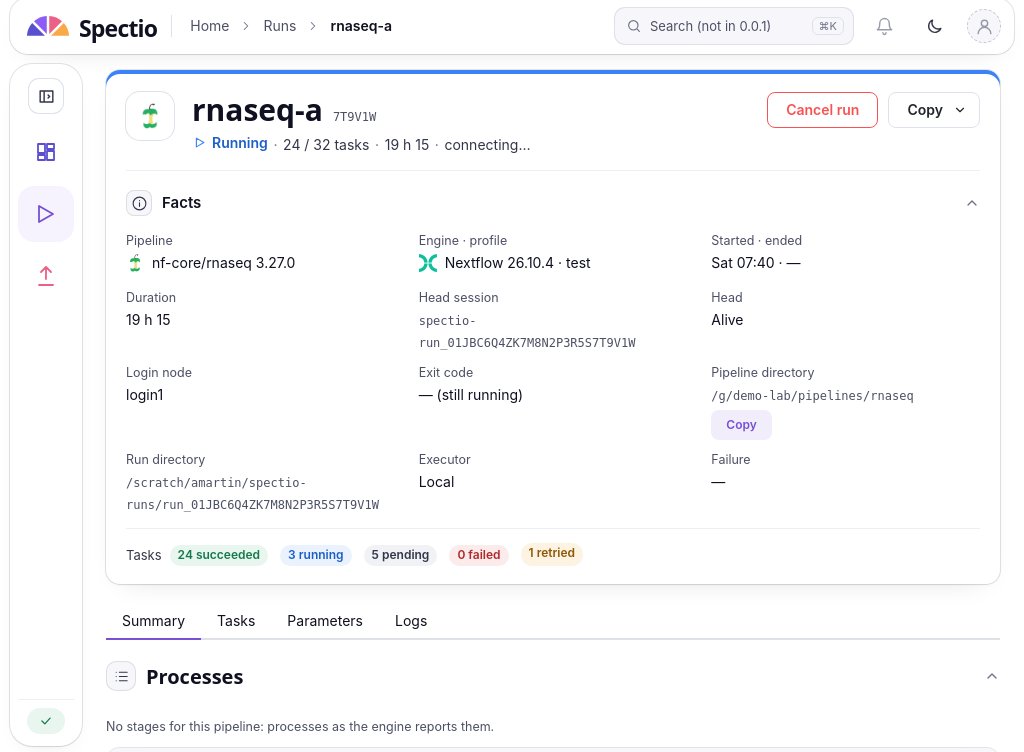
the parameters table, and a log loaded on click
Click the tab "Parameters": (325, 622) [271, 604, 379, 640]
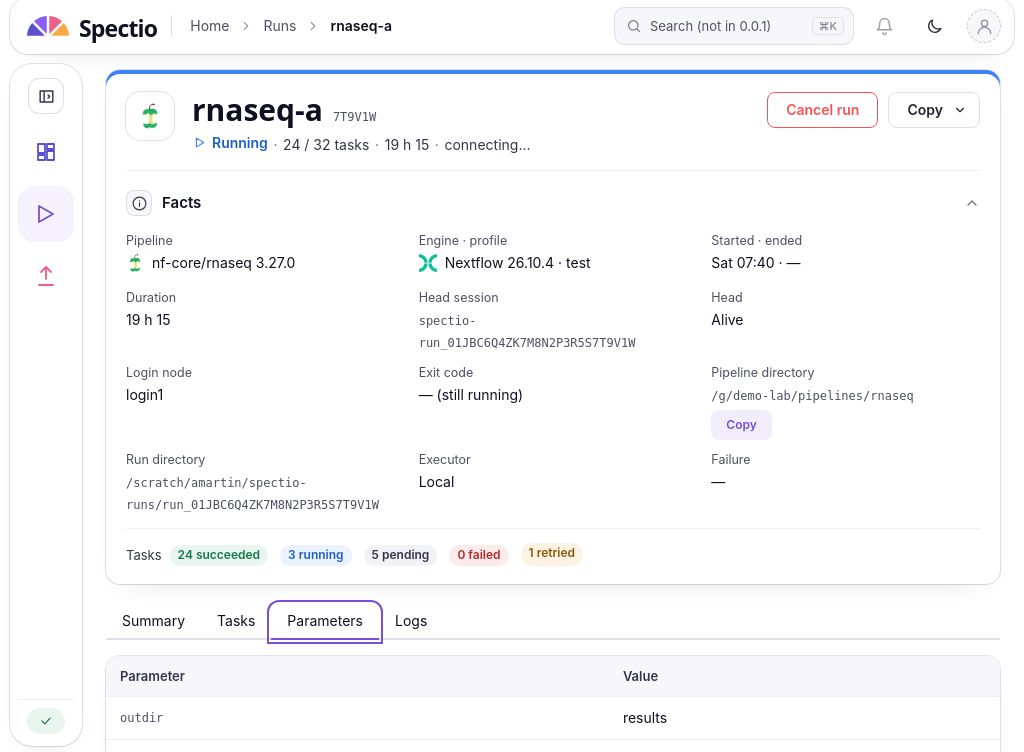
Expected: the table named "Parameters" shows "outdir", [120, 711, 163, 725]
Click the tab "Logs": (411, 622) [379, 604, 443, 640]
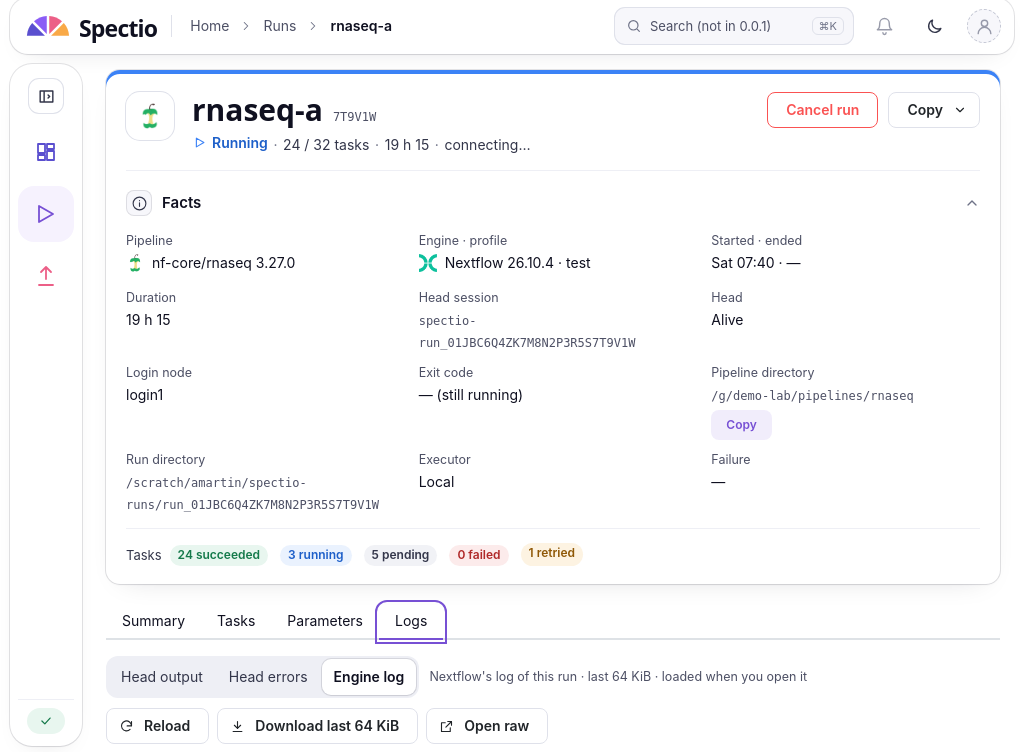
Click the button "Head output": (162, 677) [109, 659, 215, 695]
(page scrolled)
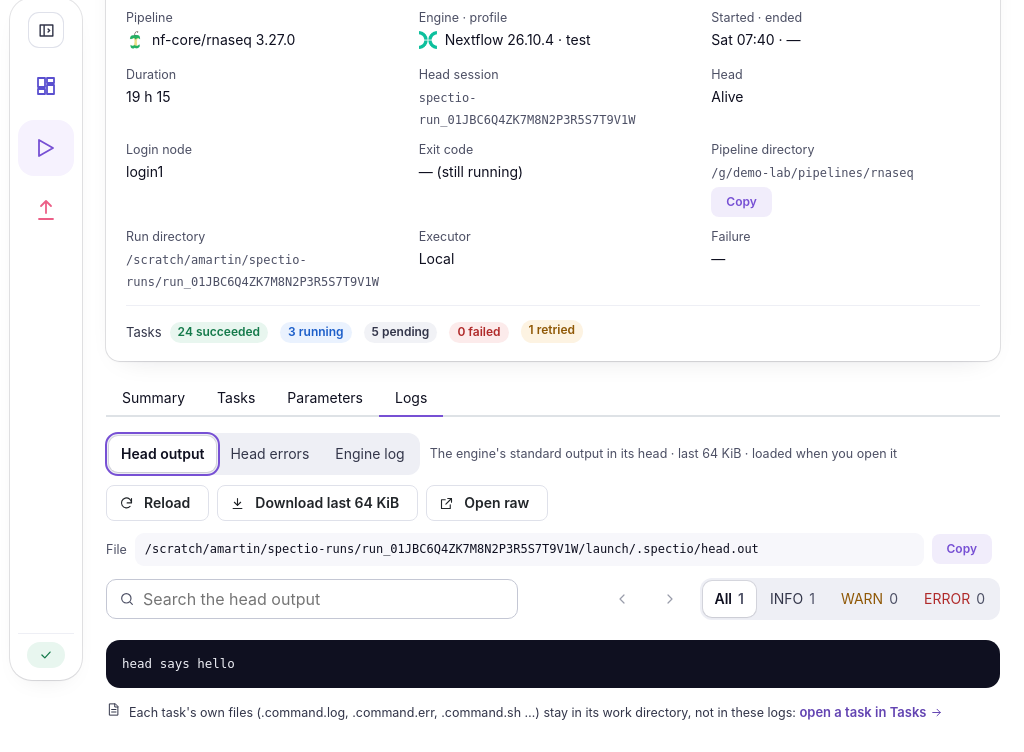
Expected: the text "head says hello" is shown, [122, 656, 235, 671]
